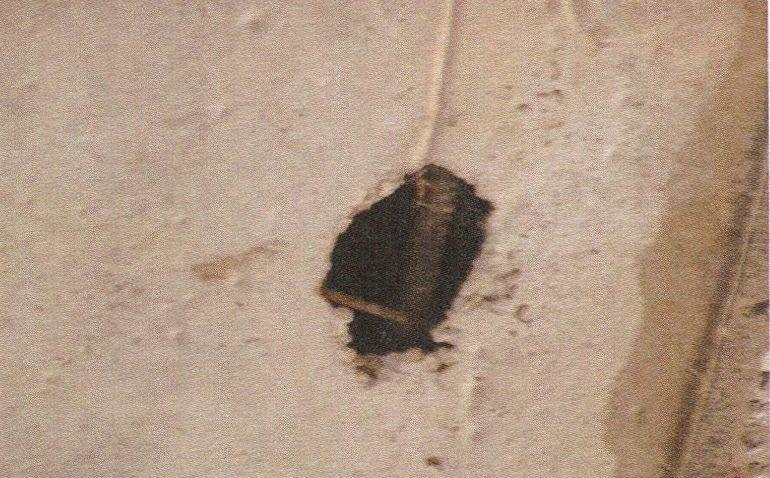Exposed reinforcement: (382, 162, 460, 355), (321, 286, 436, 335)
Spalling: (320, 161, 495, 387)
